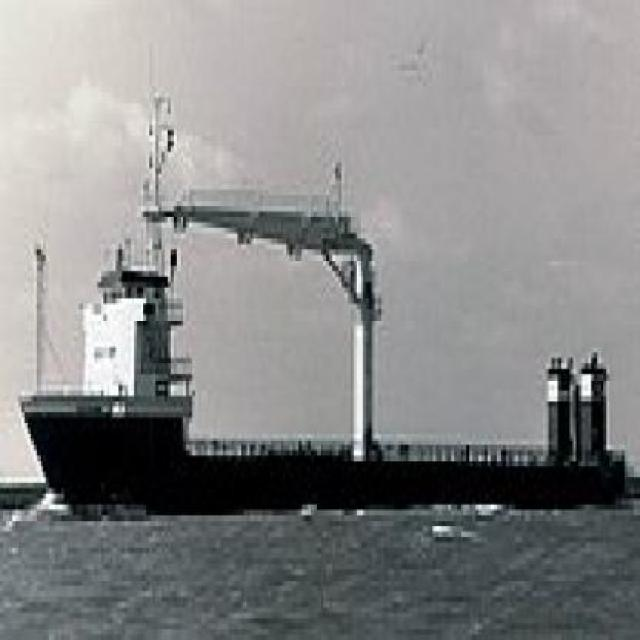container: (19, 61, 635, 527)
